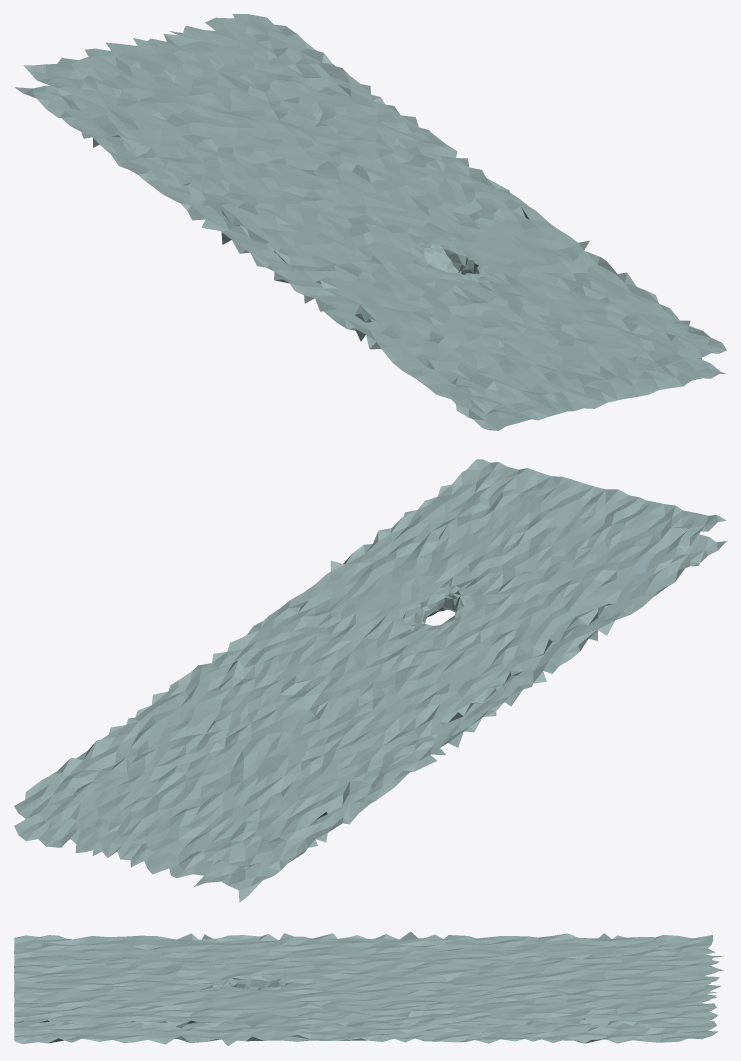
Rendered from Cave_Floor_Hole2.fbx.
The picture shows the model from 3 angles, top to bottom: view 1: azimuth 30°, elevation 25°; view 2: azimuth 150°, elevation 25°; view 3: azimuth 270°, elevation 25°; orthographic projection. The views are drawn at different scales.
Visible parts, largest first — view 1: Cave_Floor_Hole; view 2: Cave_Floor_Hole; view 3: Cave_Floor_Hole.
Part boxes in pixels (<box>): Cave_Floor_Hole: <box>14,14,726,430</box>; Cave_Floor_Hole: <box>14,459,726,902</box>; Cave_Floor_Hole: <box>14,931,724,1046</box>.
Size of the model in its own units: 52132 by 6932 by 170963.
